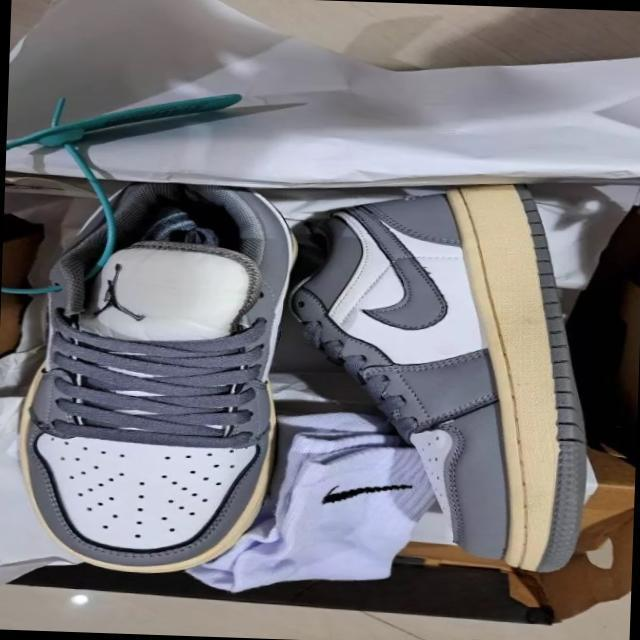nike fake jordan 1: (274, 174, 600, 576), (0, 174, 305, 583)
